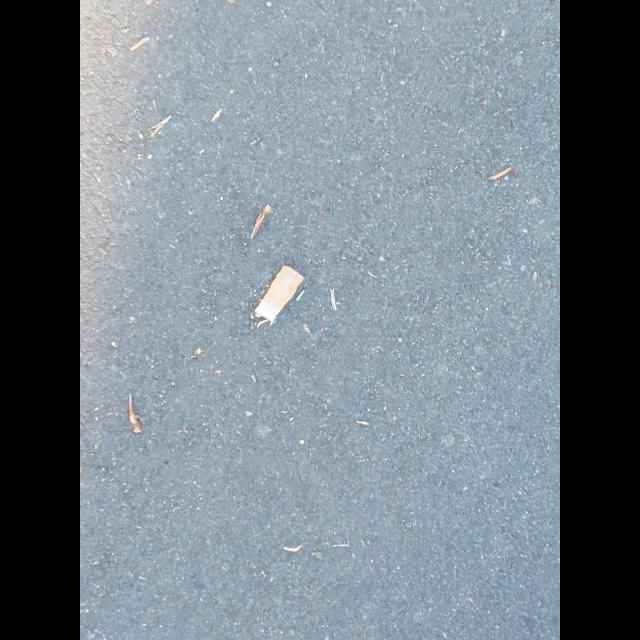cigarette: (254, 265, 304, 327)
